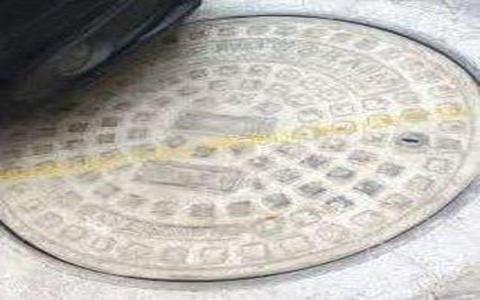proper manhole: (48, 21, 480, 289)
